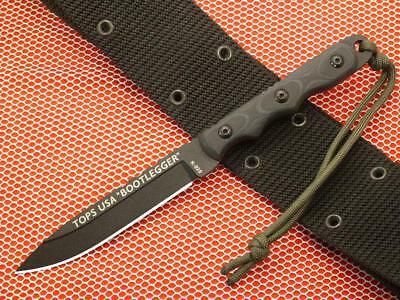knief: (13, 35, 382, 286)
